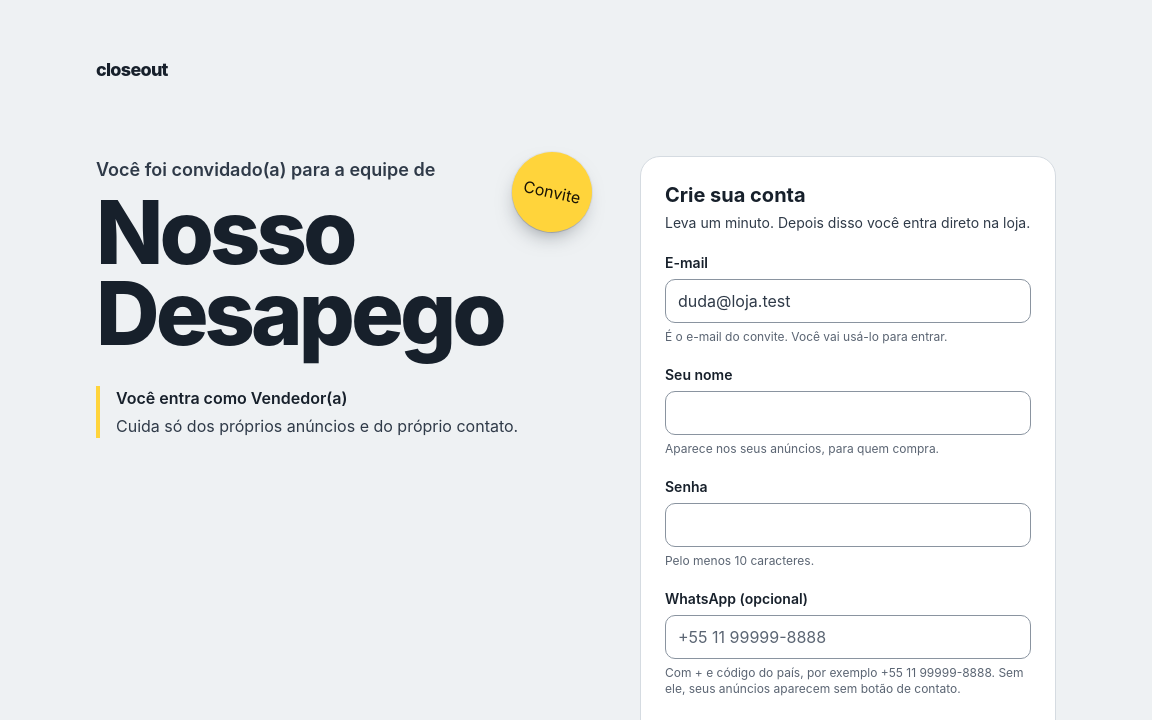
invite page › shows the API's WhatsApp error on its field
Type "Duda" into the field labelled "Seu nome".
click(848, 413); type("Duda")  # box left=665, top=391, right=1031, bottom=435
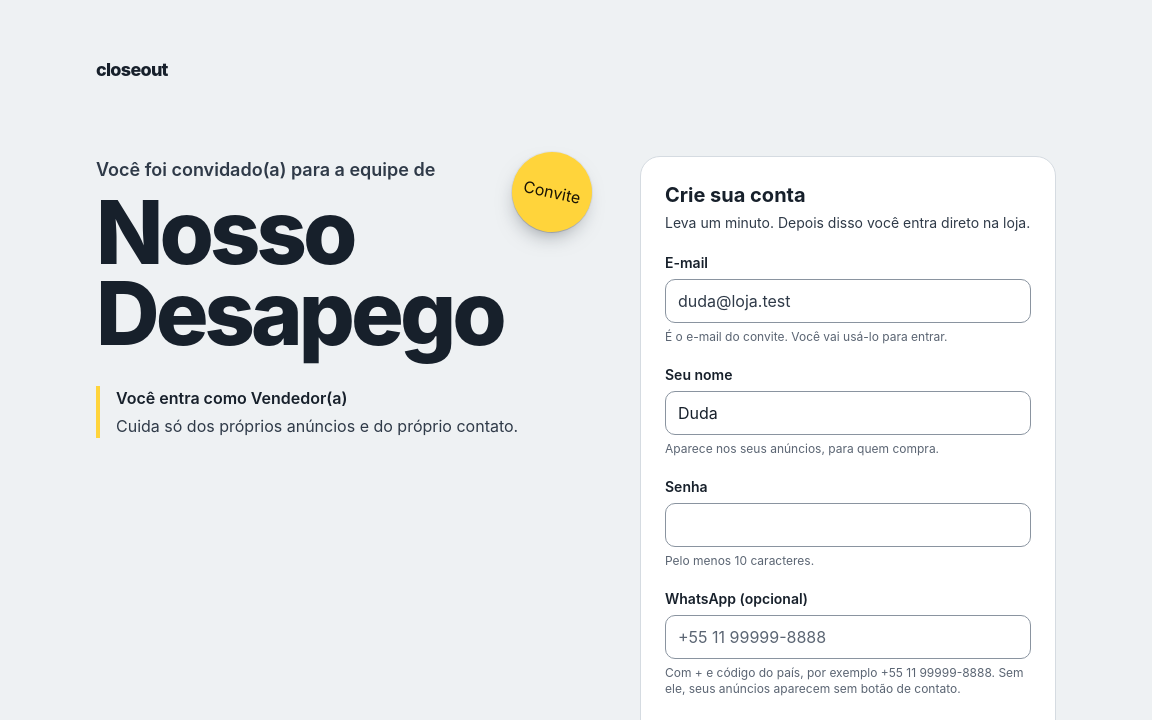
Type "senha-longa-1" into the password field labelled "Senha".
click(848, 525); type("senha-longa-1")  # box left=665, top=503, right=1031, bottom=547
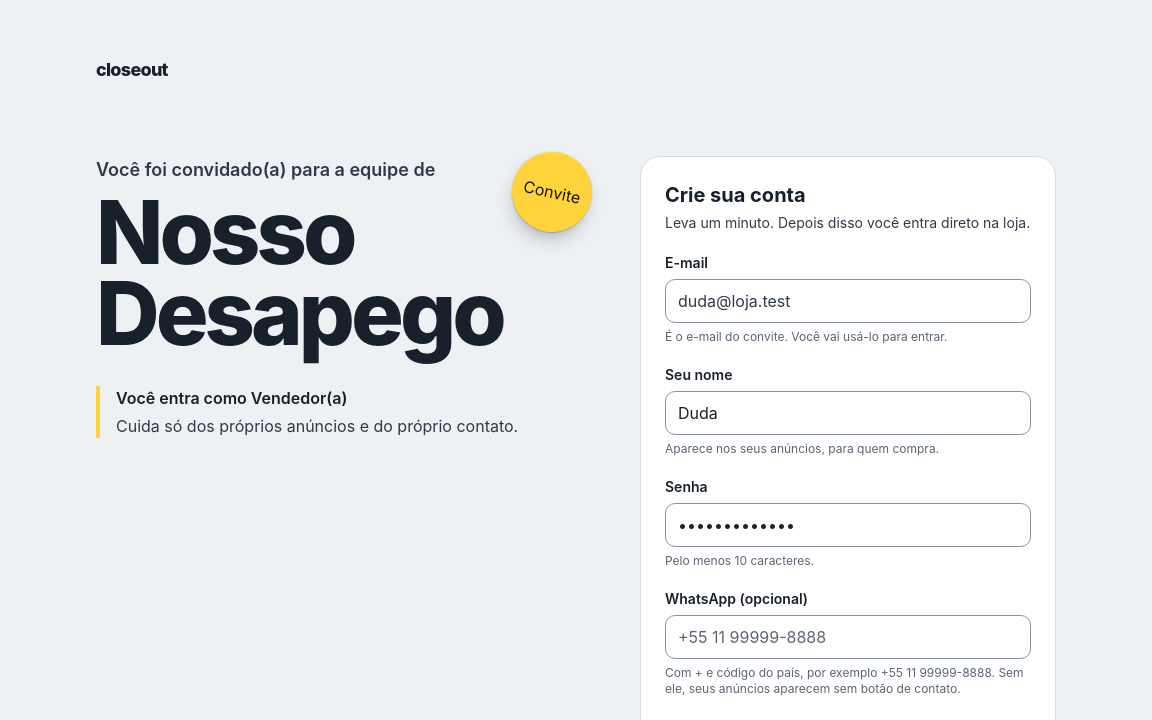
Type "123" into the field labelled "WhatsApp (opcional)".
click(848, 637); type("123")  # box left=665, top=615, right=1031, bottom=659
(page scrolled)
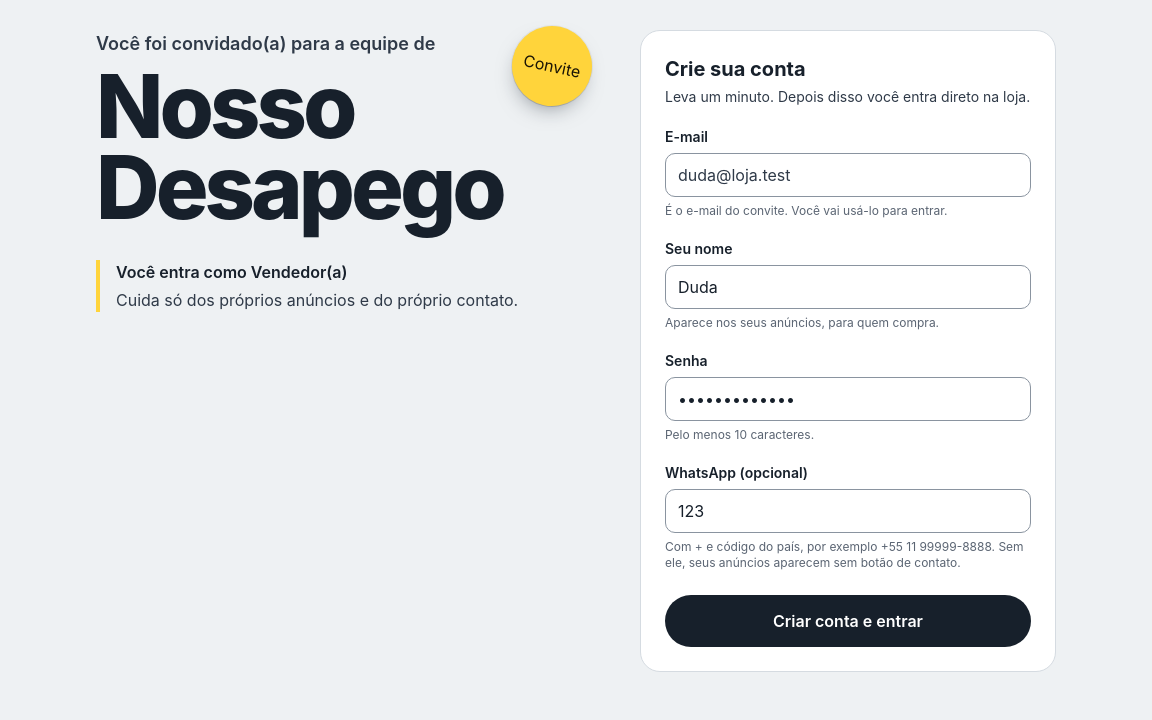
Click the button "Criar conta e entrar".
click(848, 621)  # box left=665, top=595, right=1031, bottom=647
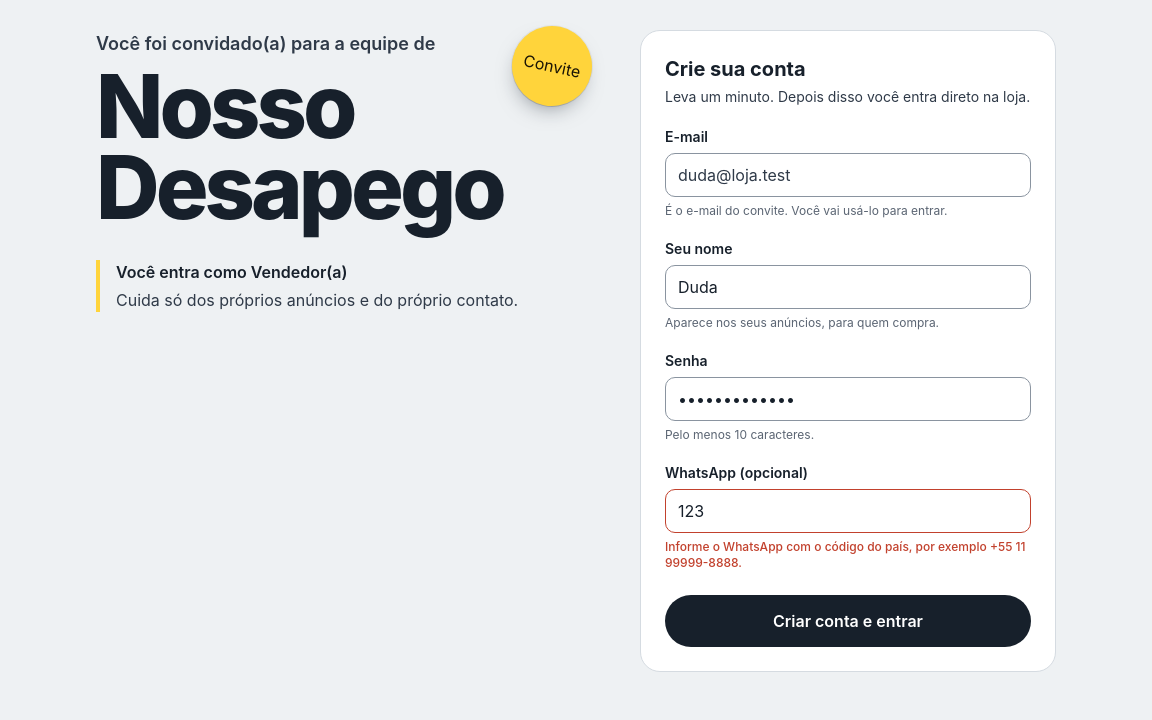
Now the text "Informe o WhatsApp com o código do país, por exemplo +55 11 99999-8888." is shown, box left=665, top=539, right=1031, bottom=571
